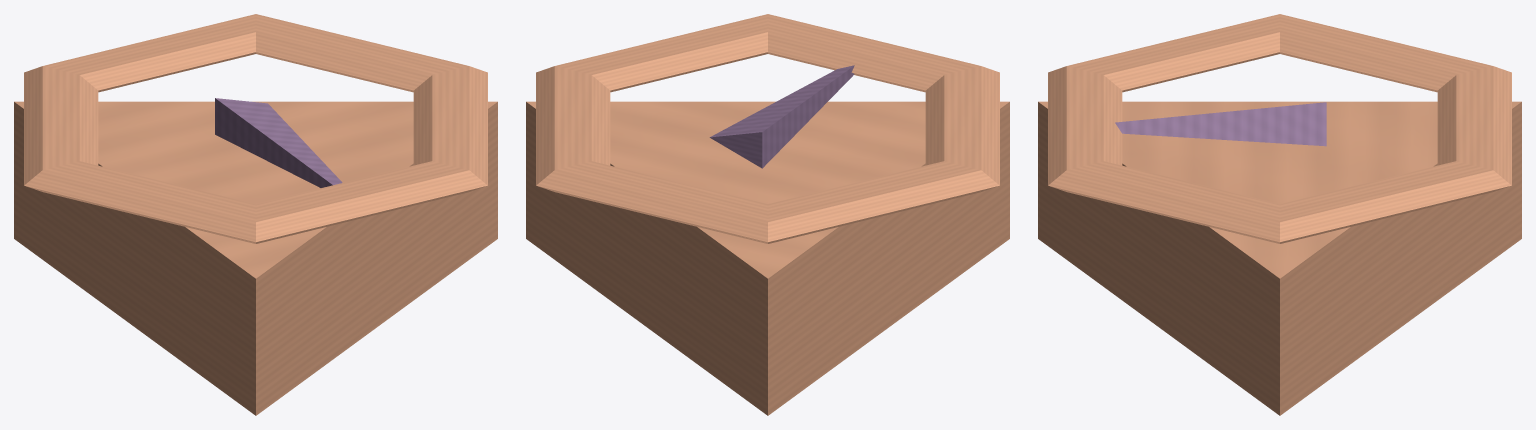
Rendered from atlas100-s088-a05.lod2.glb.
3 renders of one model, left to right at view 1: azimuth 30°, elevation 25°; view 2: azimuth 150°, elevation 25°; view 3: azimuth 270°, elevation 25°, orthographic.
Parts seen in each view (by area): view 1: atlas100-s088-a05:part-000, atlas100-s088-a05:part-003, atlas100-s088-a05:part-002; view 2: atlas100-s088-a05:part-000, atlas100-s088-a05:part-003, atlas100-s088-a05:part-002; view 3: atlas100-s088-a05:part-000, atlas100-s088-a05:part-003, atlas100-s088-a05:part-002.
Part boxes in pixels (x1,y1,x2,y2): atlas100-s088-a05:part-000: [14, 101, 497, 415]; atlas100-s088-a05:part-003: [24, 14, 487, 243]; atlas100-s088-a05:part-002: [215, 98, 342, 187]; atlas100-s088-a05:part-000: [526, 101, 1009, 415]; atlas100-s088-a05:part-003: [536, 14, 999, 243]; atlas100-s088-a05:part-002: [709, 65, 854, 168]; atlas100-s088-a05:part-000: [1038, 101, 1521, 415]; atlas100-s088-a05:part-003: [1048, 14, 1511, 243]; atlas100-s088-a05:part-002: [1115, 102, 1326, 146].
Bounding box in the file's own units: 0.5132 × 0.1936 × 0.4539.
Materials: 2 (2 with a texture image).
